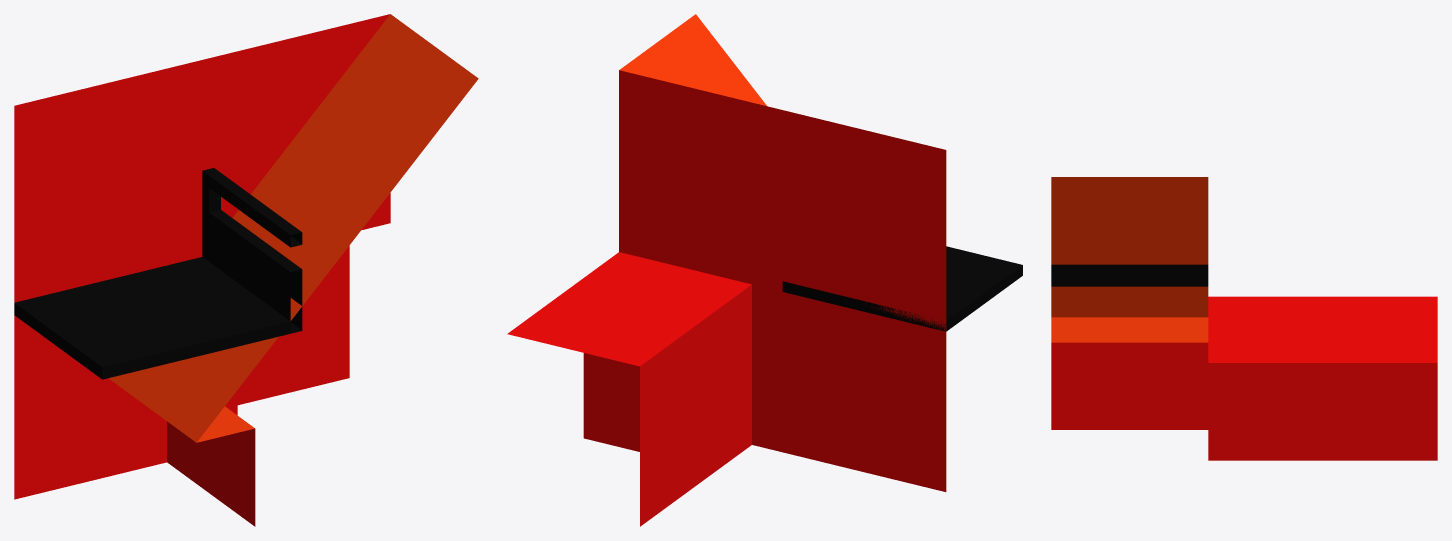
3 views of the same model, side by side, from view 1: azimuth 30°, elevation 25°; view 2: azimuth 150°, elevation 25°; view 3: azimuth 270°, elevation 25° (orthographic). The views are drawn at different scales.
Parts seen in each view (by area): view 1: None_E_S_A_E_A_P_A_E_None; view 2: None_E_S_A_E_A_P_A_E_None; view 3: None_E_S_A_E_A_P_A_E_None.
Part boxes in pixels (<box>): None_E_S_A_E_A_P_A_E_None: <box>14,14,478,526</box>; None_E_S_A_E_A_P_A_E_None: <box>507,14,1022,526</box>; None_E_S_A_E_A_P_A_E_None: <box>1051,177,1437,460</box>.
Bounding box in the file's own units: 100 × 100 × 100.
